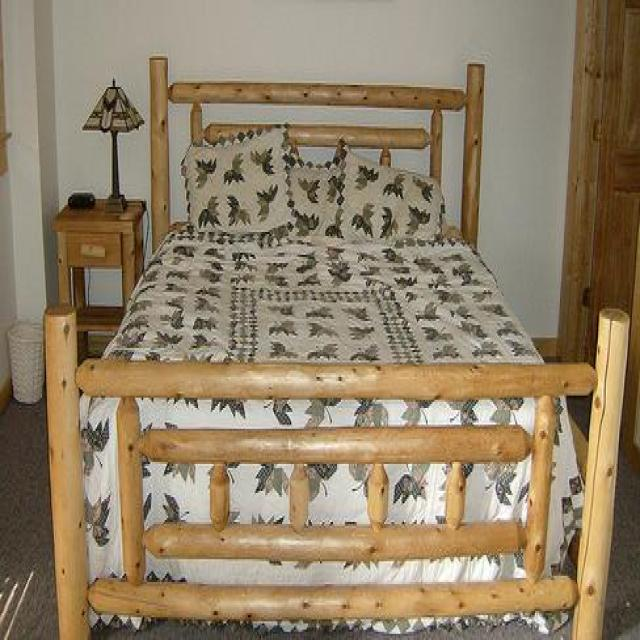bed: (43, 52, 628, 638)
table: (51, 194, 146, 364)
